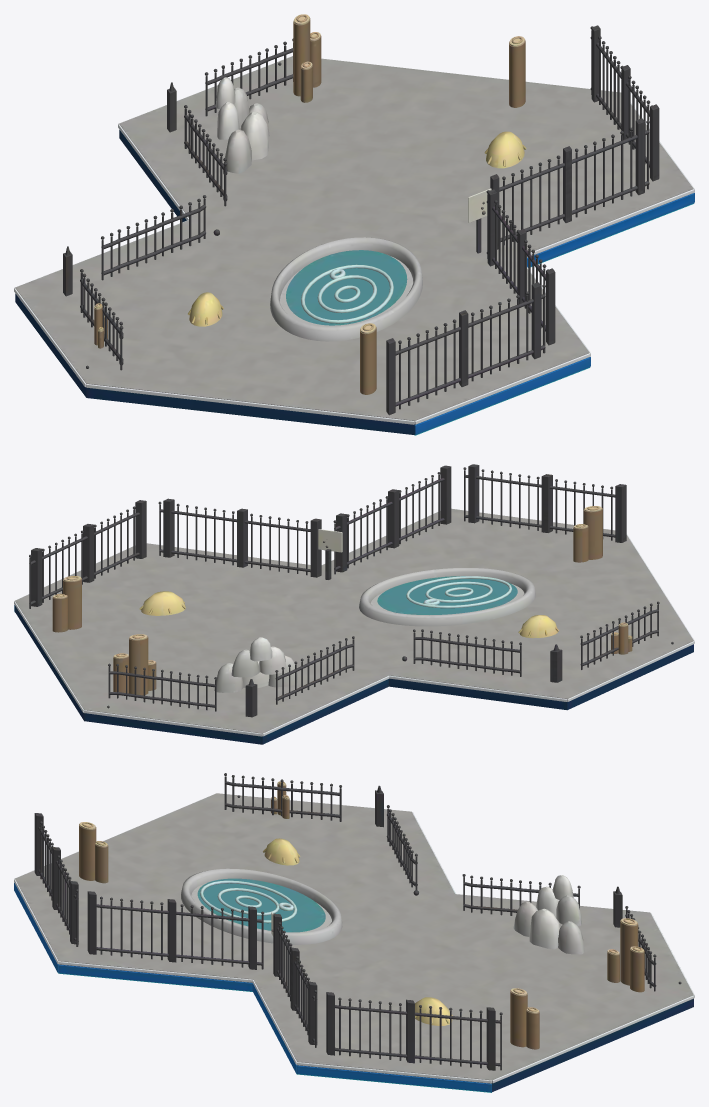
File: field_cm25_01.glb
3 views of the same model, one above another, from view 1: azimuth 30°, elevation 25°; view 2: azimuth 150°, elevation 25°; view 3: azimuth 270°, elevation 25° (orthographic). The views are drawn at different scales.
Visible parts, largest first — view 1: field_cm25_01-runtime-static; view 2: field_cm25_01-runtime-static; view 3: field_cm25_01-runtime-static.
Boxes of the visible parts, x1,y1,x2,y2 form: field_cm25_01-runtime-static: [14, 14, 694, 435]; field_cm25_01-runtime-static: [14, 464, 694, 744]; field_cm25_01-runtime-static: [14, 773, 694, 1092].
Bounding box in the file's own units: 12.12 × 1.46 × 12.12.
Materials: 1 (1 with a texture image).
